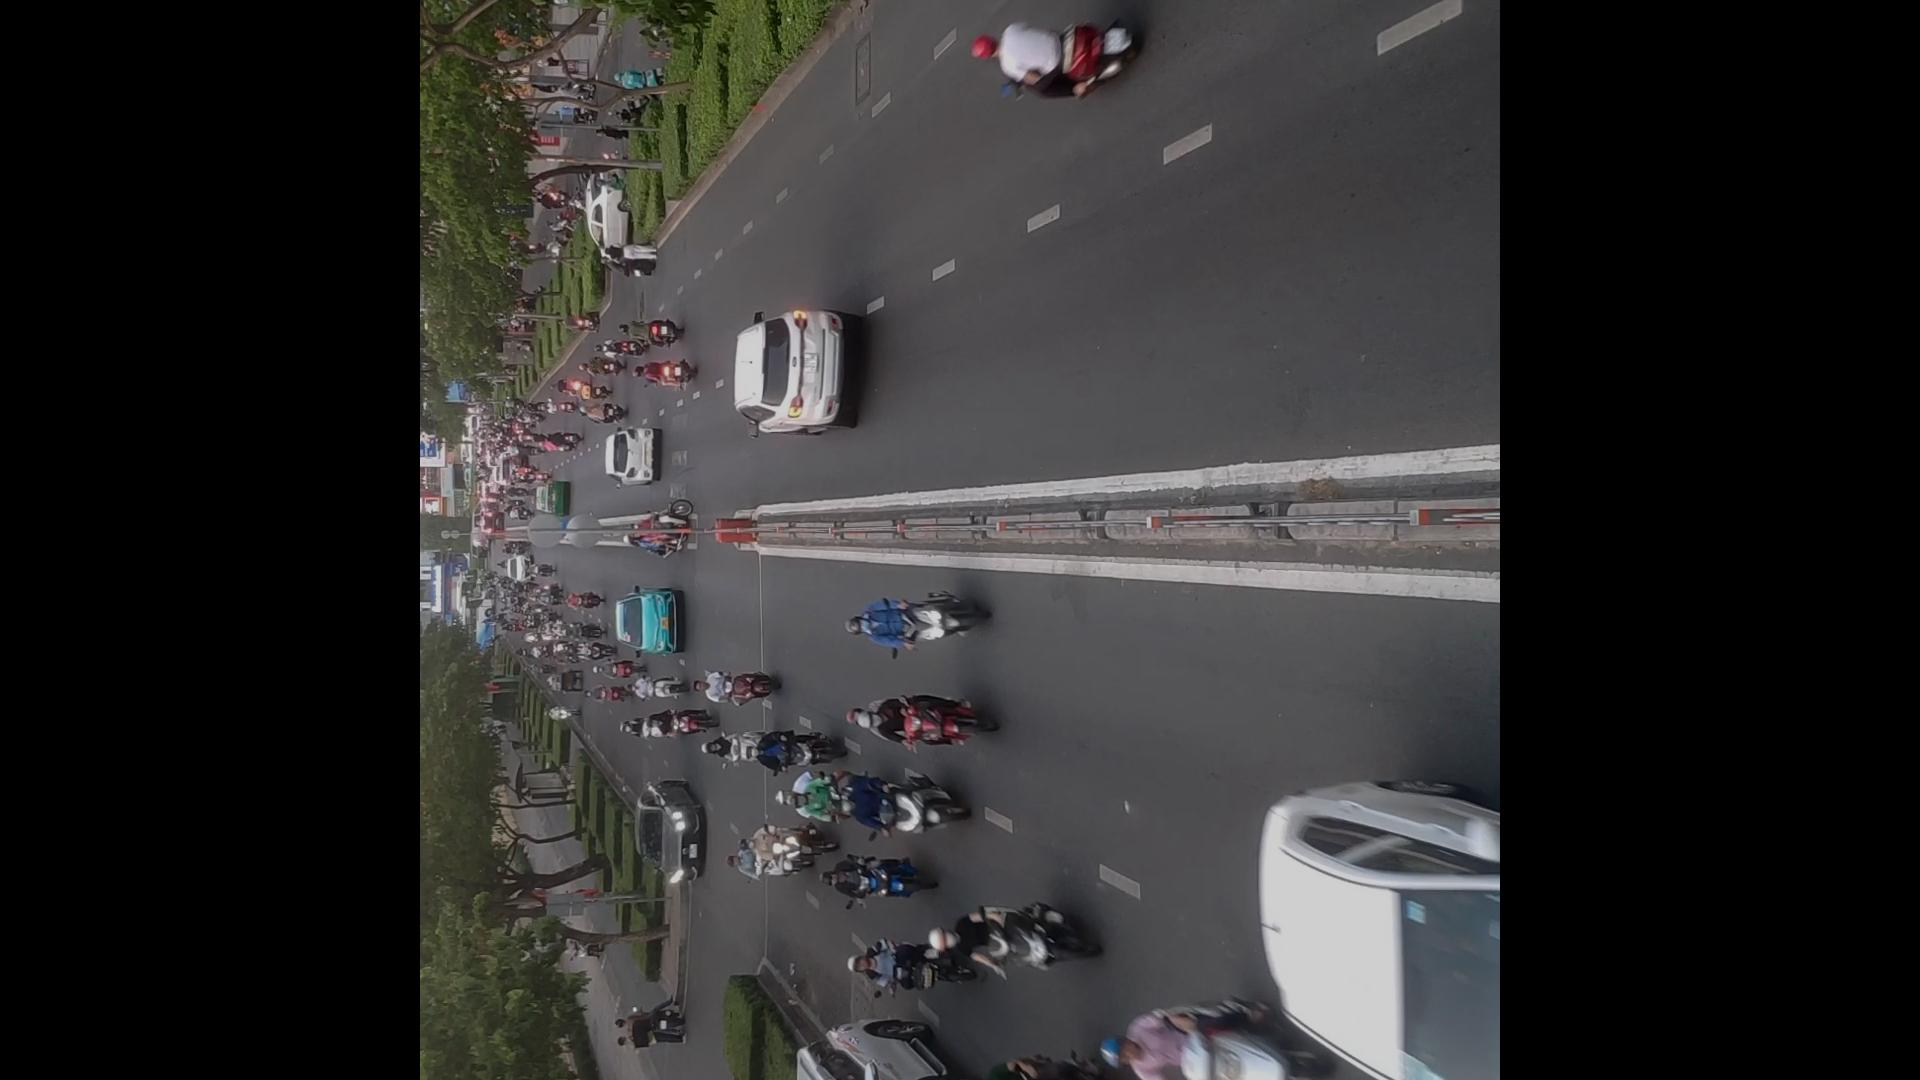car: (1280, 770, 1501, 1080), (736, 303, 849, 436), (798, 1005, 988, 1080), (640, 771, 708, 882), (585, 166, 636, 264), (615, 589, 683, 659), (607, 425, 658, 485)
motorbike: (1114, 988, 1323, 1080), (967, 8, 1135, 108), (919, 895, 1098, 976), (855, 574, 978, 665), (837, 760, 953, 848), (847, 661, 976, 732), (829, 839, 924, 911), (957, 1040, 1124, 1080), (848, 930, 953, 986), (771, 765, 843, 819), (756, 735, 841, 777), (626, 356, 713, 392), (695, 673, 778, 704), (736, 825, 825, 855), (641, 505, 700, 545), (723, 849, 804, 877), (702, 736, 765, 770), (607, 713, 683, 741), (622, 313, 686, 342), (618, 673, 680, 702), (647, 713, 725, 731)
